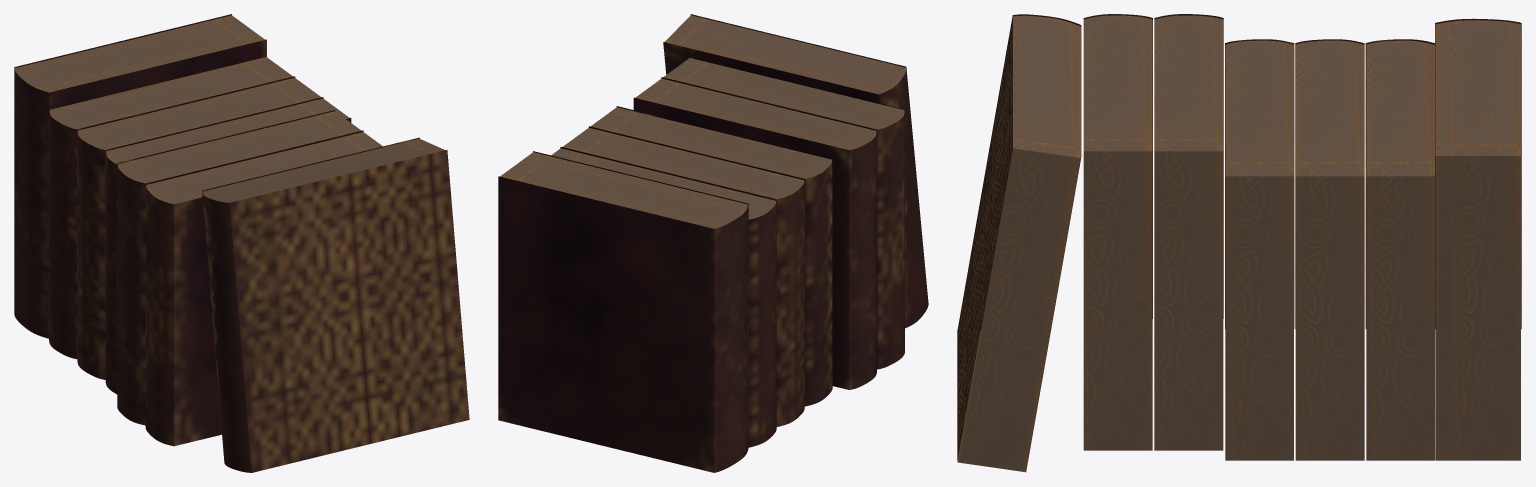
File: SM_BookPile12.fbx
3 views of the same model, side by side, from view 1: azimuth 30°, elevation 25°; view 2: azimuth 150°, elevation 25°; view 3: azimuth 270°, elevation 25° (orthographic). The views are drawn at different scales.
Visible parts, largest first — view 1: SM_BookPile12_LOD0; view 2: SM_BookPile12_LOD0; view 3: SM_BookPile12_LOD0.
Part boxes in pixels (box(x1,y1,x2,y2)): SM_BookPile12_LOD0: box(14, 14, 469, 472); SM_BookPile12_LOD0: box(498, 14, 928, 472); SM_BookPile12_LOD0: box(957, 14, 1521, 472).
Bounding box in the file's own units: 37.76 × 58.91 × 37.52.
1 material, 1 textured.
